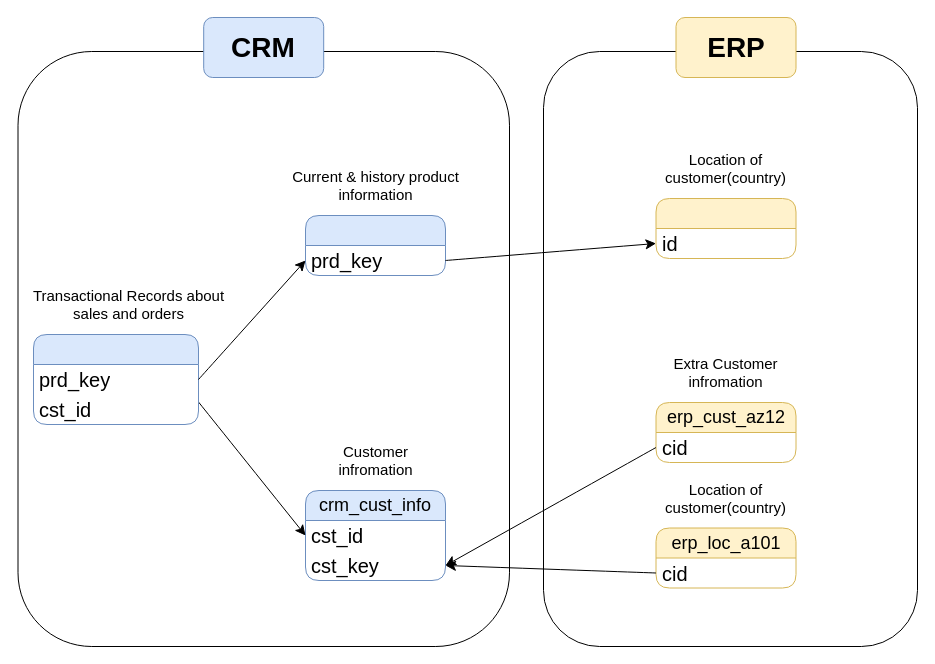
Some shapes in this 935 by 664 pixel diagram are drawn without their labels. The box of each missing label's shape, as (x1, y1, x2, y2) in pixels:
crm_prd_info: (304, 214, 446, 276)
crm_sales_details: (32, 334, 198, 424)
erp_px_cat_g1v2: (655, 198, 796, 258)
